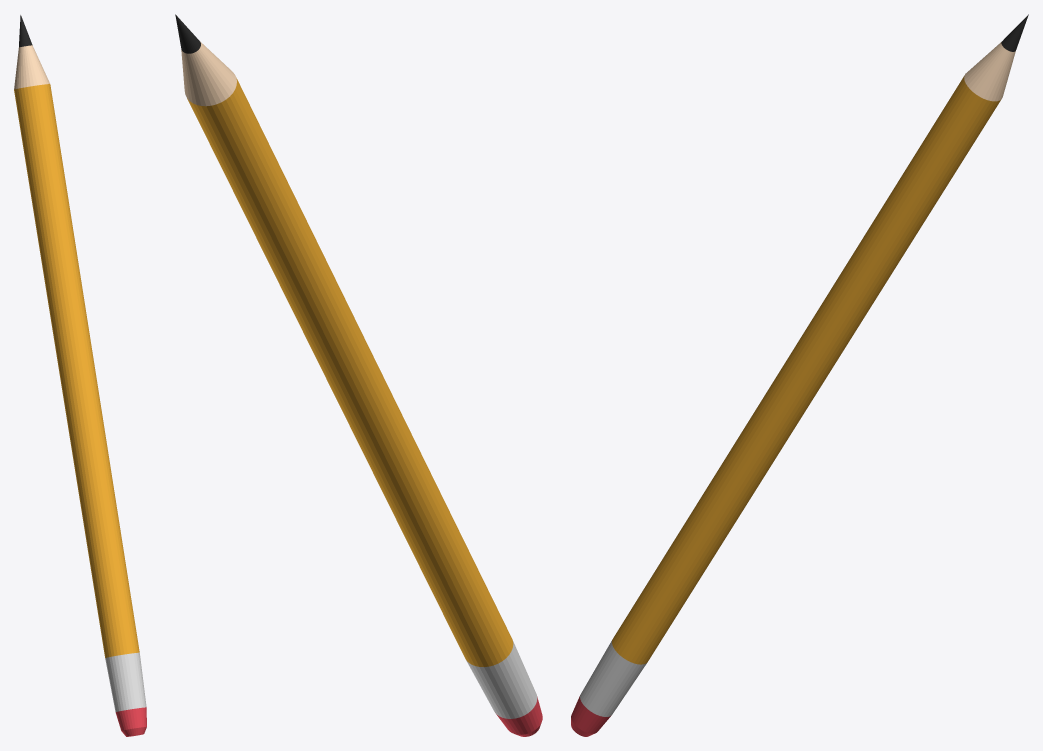
File: pencil.glb
3 renders of one model, left to right at view 1: azimuth 30°, elevation 25°; view 2: azimuth 150°, elevation 25°; view 3: azimuth 270°, elevation 25°, orthographic. The views are drawn at different scales.
Visible parts, largest first — view 1: Cylinder; view 2: Cylinder; view 3: Cylinder.
Part boxes in pixels (x1,y1,x2,y2): Cylinder: (14, 15, 146, 736); Cylinder: (175, 14, 542, 736); Cylinder: (571, 14, 1028, 736).
Size of the model in its own units: 0.4943 by 3.45 by 1.89.
